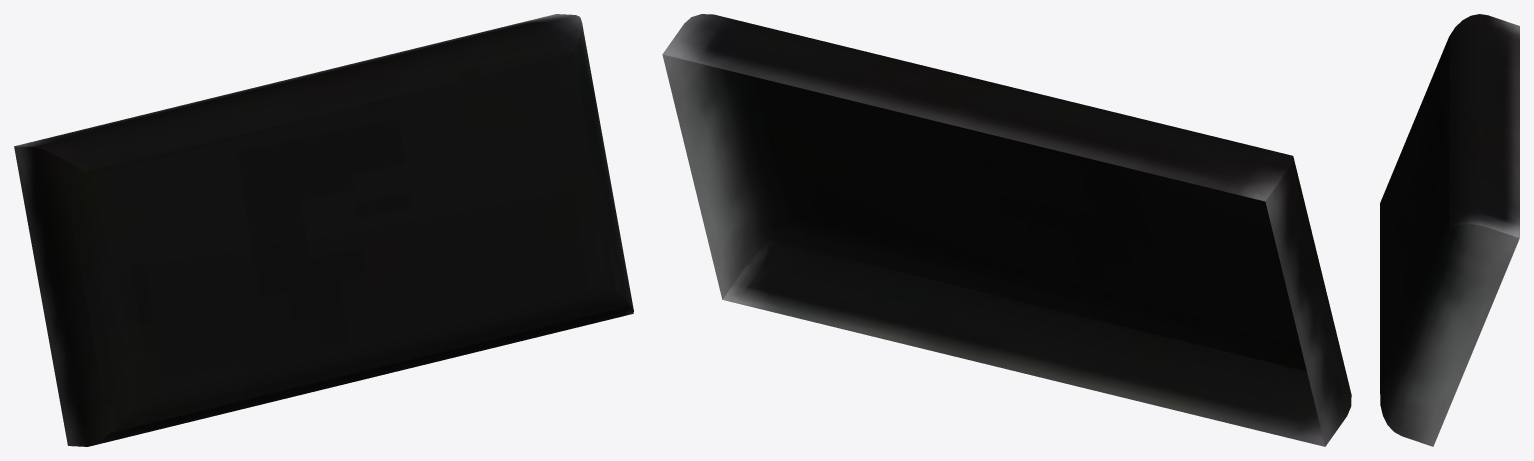
File: link_4__button-5.glb
3 views of the same model, side by side, from view 1: azimuth 30°, elevation 25°; view 2: azimuth 150°, elevation 25°; view 3: azimuth 270°, elevation 25° (orthographic). The views are drawn at different scales.
Parts seen in each view (by area): view 1: geometry_0; view 2: geometry_0; view 3: geometry_0.
Part boxes in pixels (x1,y1,x2,y2): geometry_0: (14, 14, 633, 446); geometry_0: (662, 14, 1351, 446); geometry_0: (1380, 14, 1519, 446).
Size of the model in its own units: 0.0354 by 0.0172 by 0.00985.
Materials: 1 (1 with a texture image).
